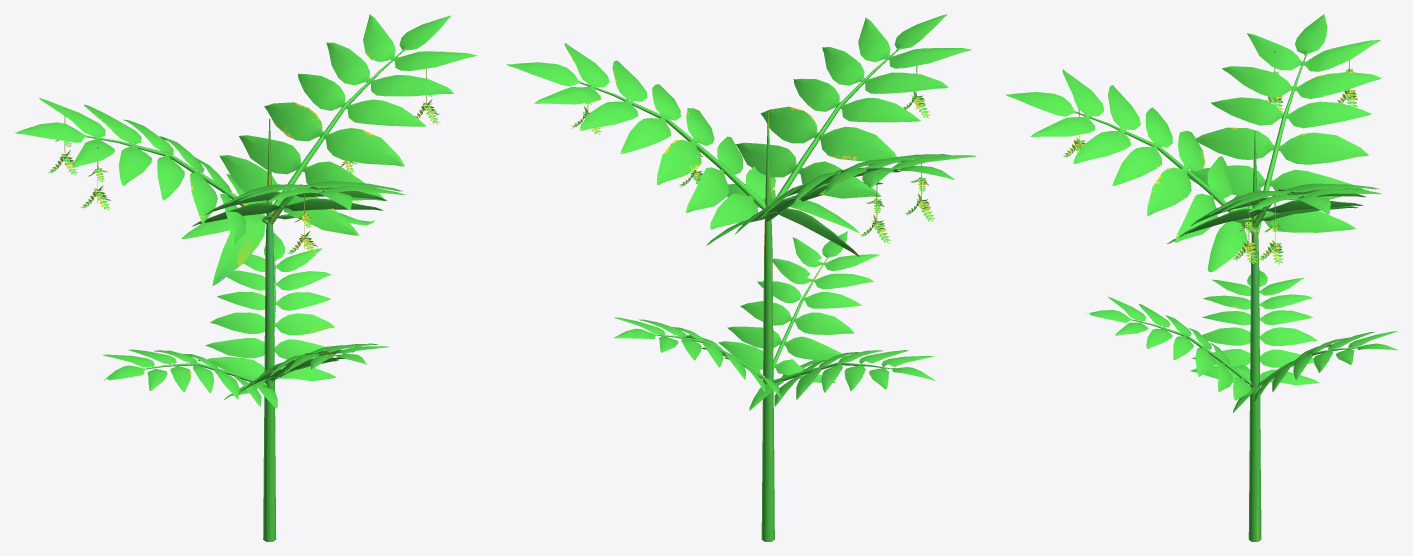
The model's file is planta_platymiscium_stipulare.fbx.
The picture shows the model from 3 angles, left to right: view 1: azimuth 30°, elevation 25°; view 2: azimuth 150°, elevation 25°; view 3: azimuth 270°, elevation 25°; orthographic projection. The views are drawn at different scales.
Parts seen in each view (by area): view 1: base stem.005; view 2: base stem.005; view 3: base stem.005.
Part boxes in pixels (box(x1,y1,x2,y2)): base stem.005: box(15, 14, 477, 541); base stem.005: box(506, 14, 976, 541); base stem.005: box(1005, 14, 1398, 541).
Bounding box in the file's own units: 1449 × 1397 × 1158.
1 material, 1 textured.
